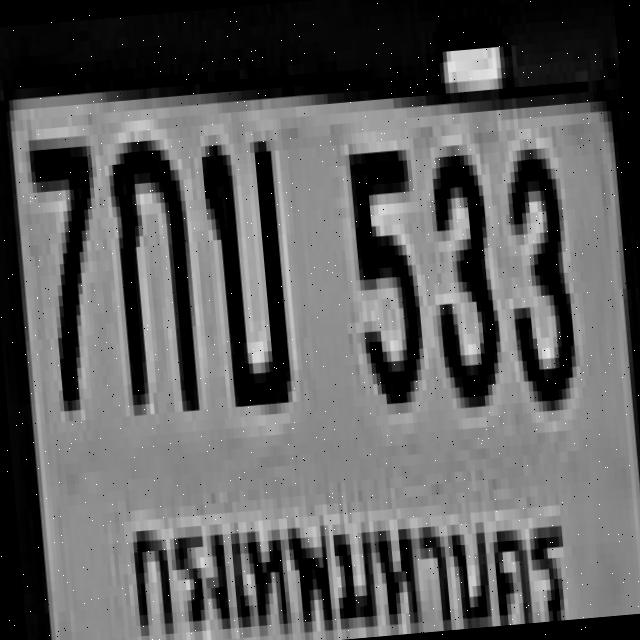10GorGai: (105, 127, 198, 406)
3: (494, 136, 574, 402), (421, 132, 496, 398)
35BorBaiMai: (195, 125, 288, 402)
5: (343, 140, 422, 396)
7: (23, 125, 108, 402)
Bangkok: (127, 462, 567, 640)
